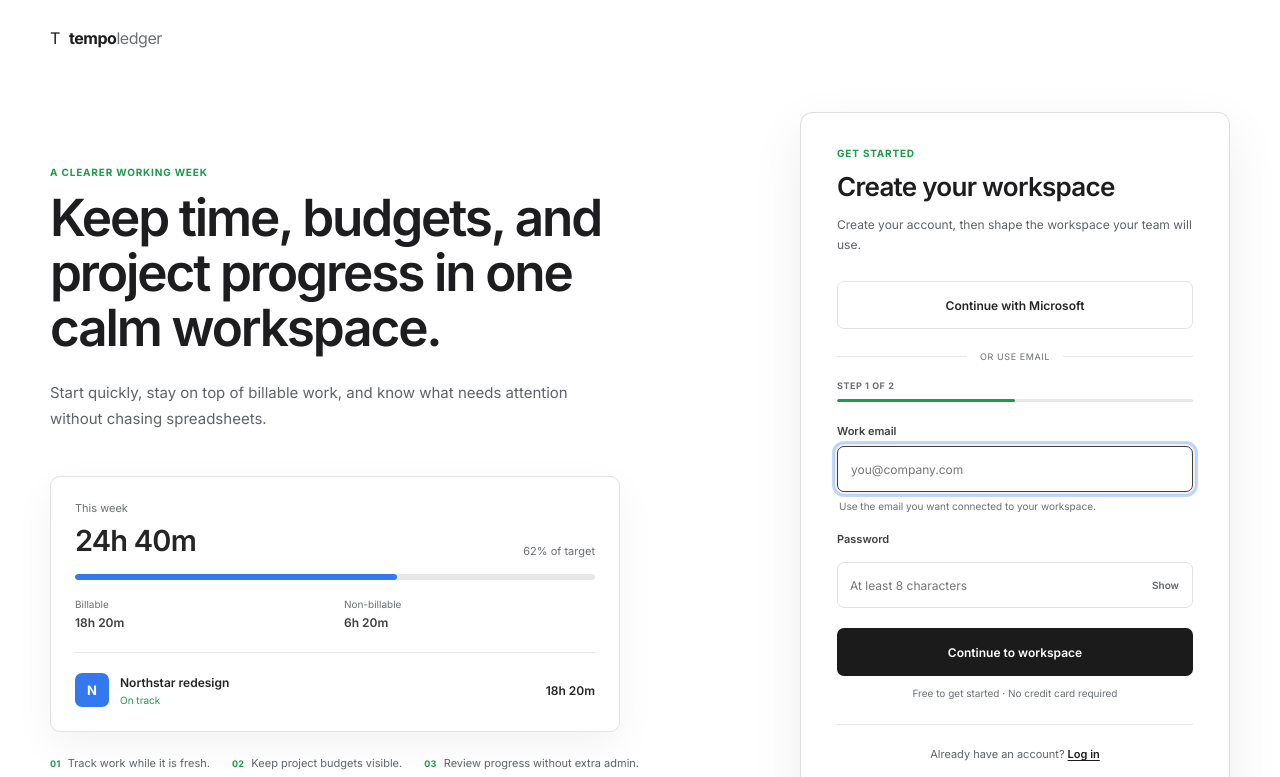
Scenario: workspace signup onboarding › validates account details before opening workspace setup and preserves them when going back
This screenshot has width=1280, height=777.
Click the button "Continue to workspace".
click(1015, 652)  # box [837,628,1193,676]
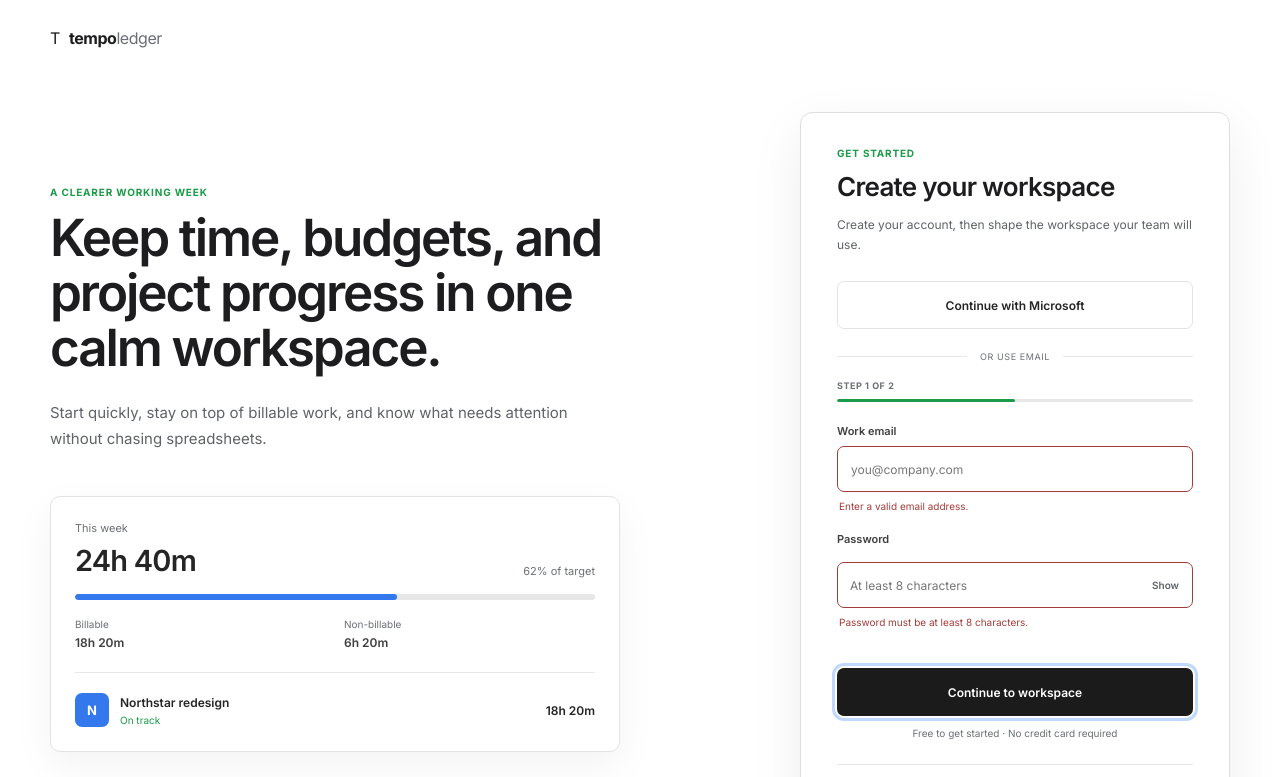
Expected: the text "Enter a valid email address." is shown, [839,500,968,512]
Expected: the text "Password must be at least 8 characters." is shown, [839,616,1028,628]
Type "maia@example.com" into the field labelled "Work email".
click(1015, 469); type("maia@example.com")  # box [837,446,1193,492]
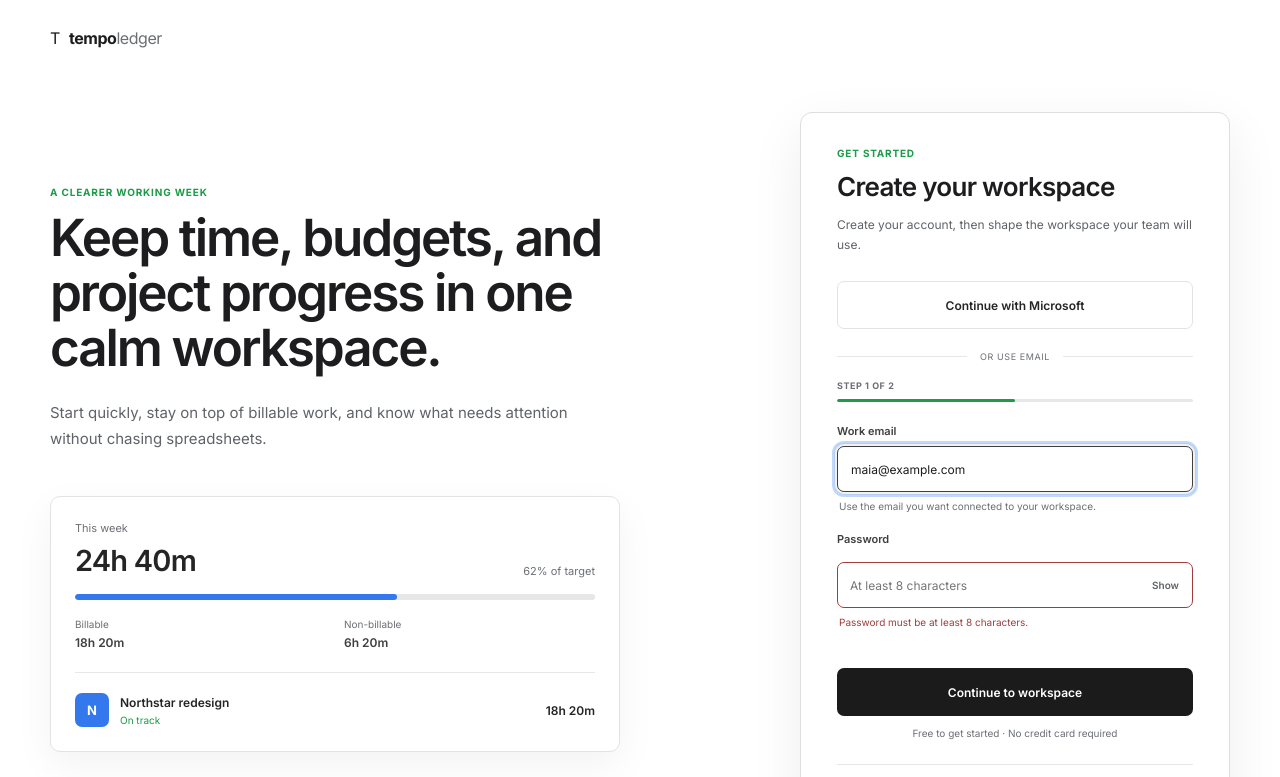
Type "correct-horse-battery" into the password field labelled "Password".
click(988, 585); type("correct-horse-battery")  # box [838,563,1139,607]
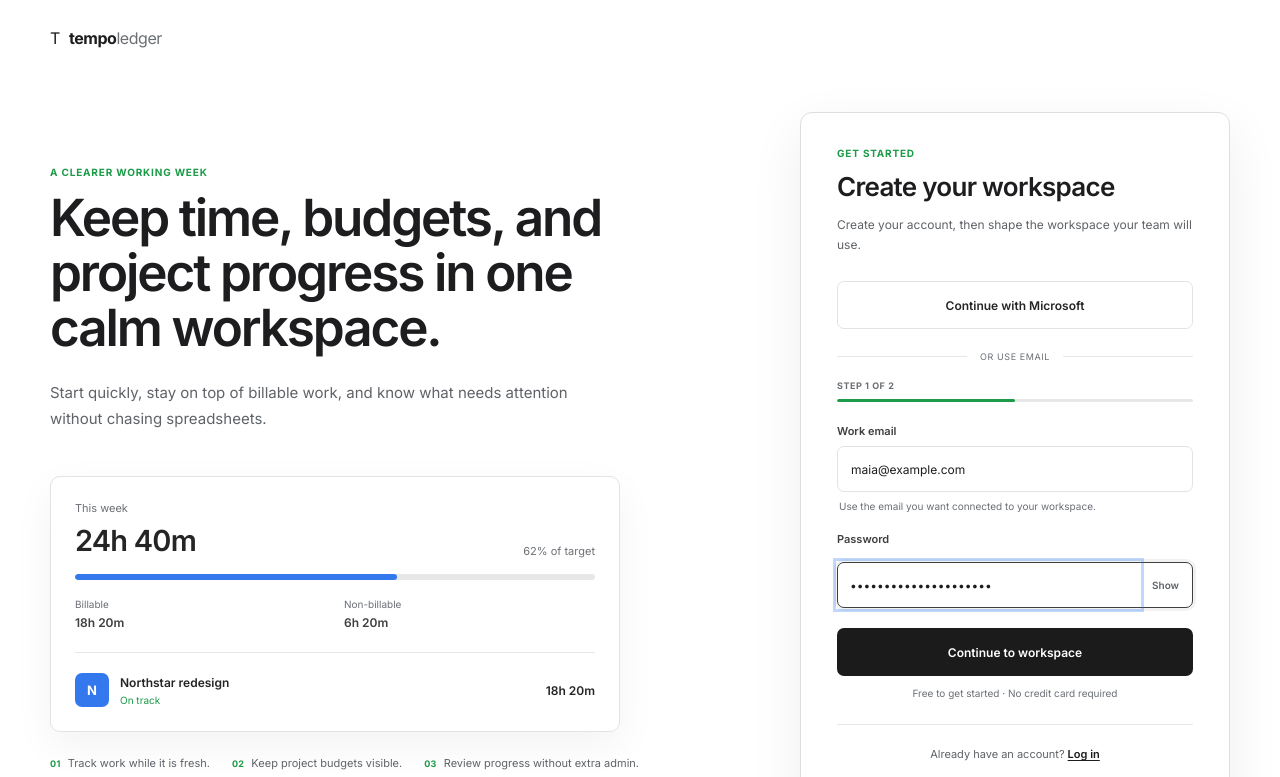
Click the button "Continue to workspace".
click(1015, 652)  # box [837,628,1193,676]
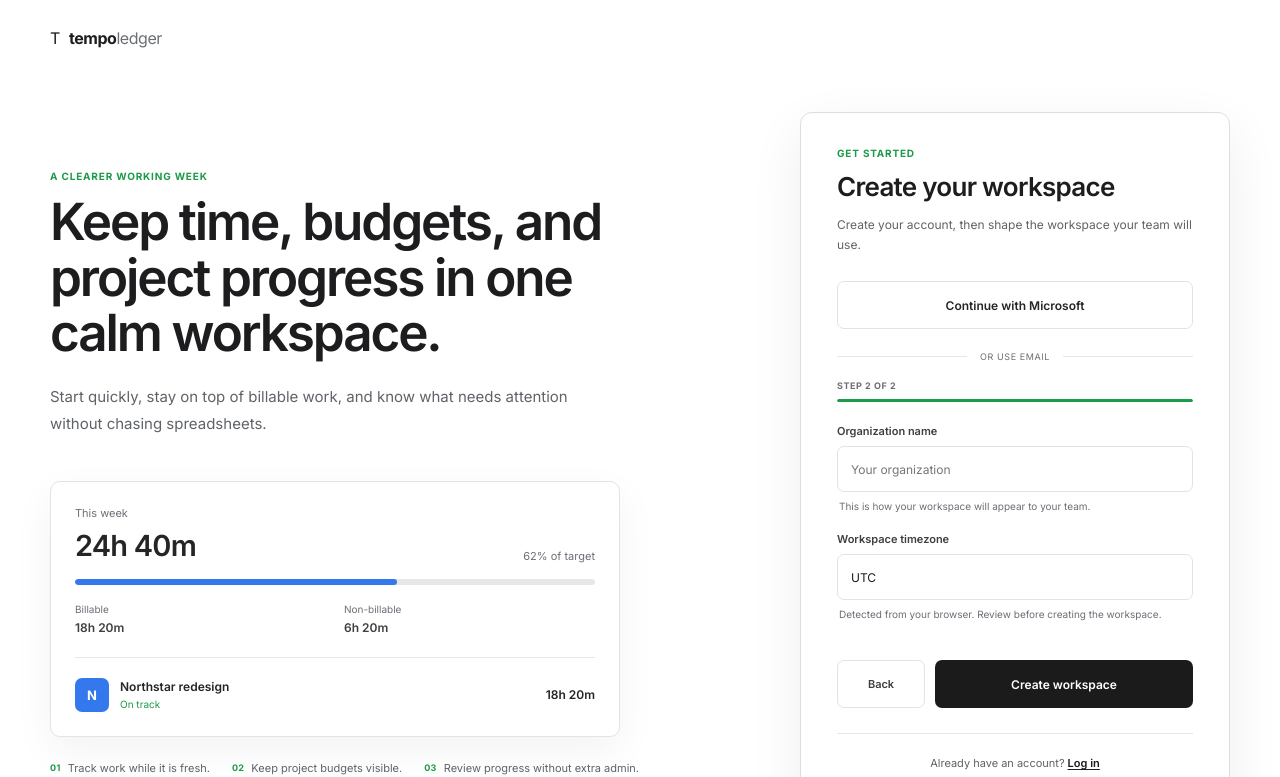
Expected: the field labelled "Organization name" is shown, [837,446,1193,492]
Expected: the field labelled "Workspace timezone" holds "UTC", [837,554,1193,600]
Click the button "Back".
click(881, 684)  # box [837,660,925,708]
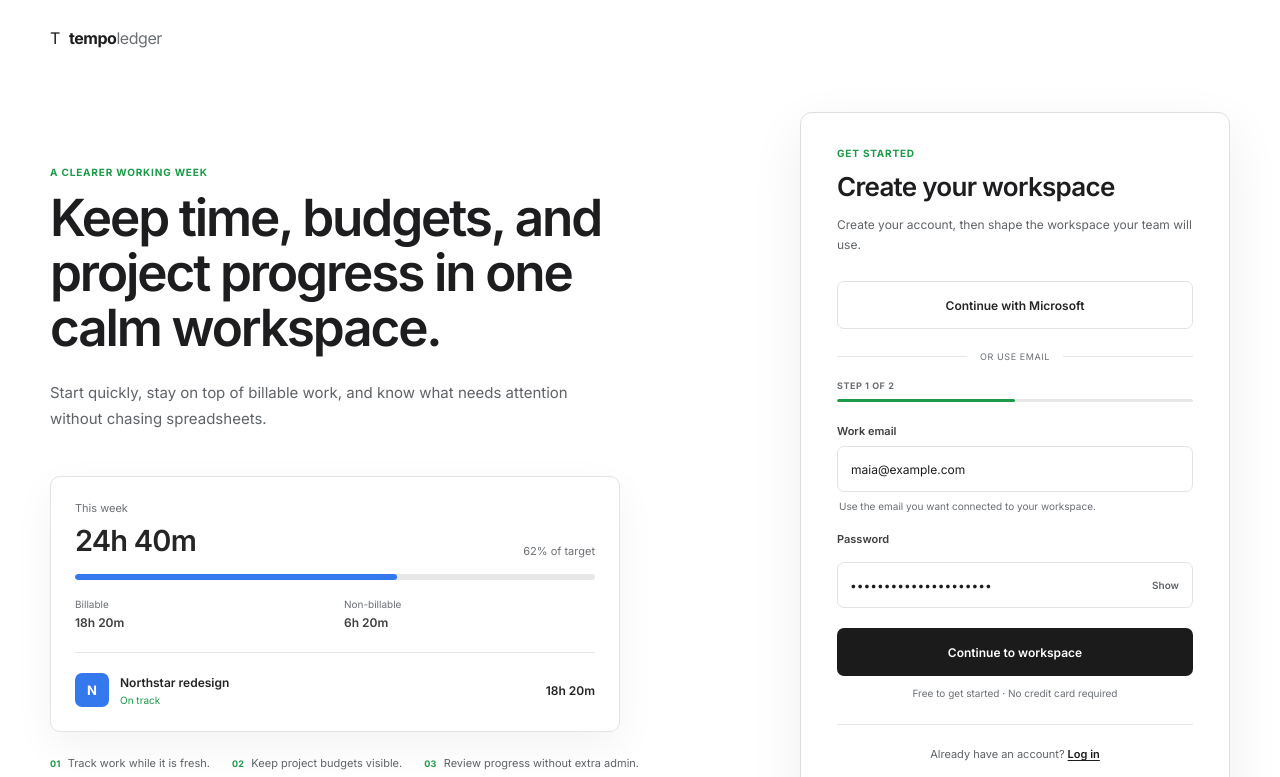
Expected: the password field labelled "Password" holds "correct-horse-battery", [838,563,1139,607]
